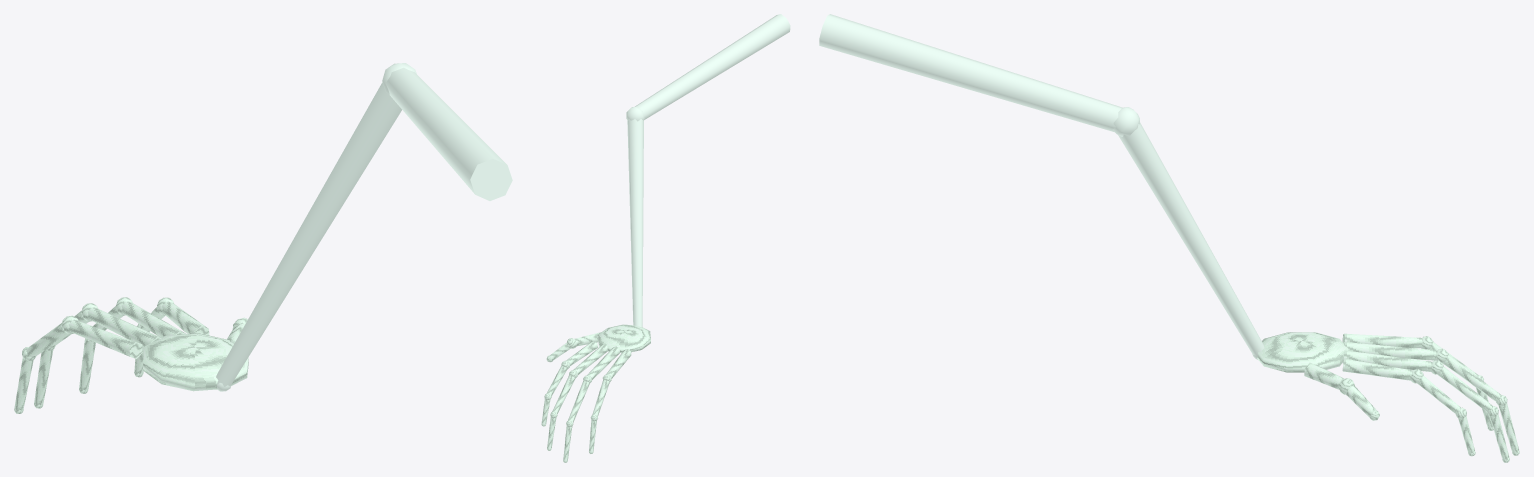
File: mao_longa.glb
3 renders of one model, left to right at view 1: azimuth 30°, elevation 25°; view 2: azimuth 150°, elevation 25°; view 3: azimuth 270°, elevation 25°, orthographic. The views are drawn at different scales.
Parts seen in each view (by area): view 1: _MeshInstance3D_7446_35, _MeshInstance3D_7444_37, _MeshInstance3D_7449_33, _MeshInstance3D_7451_32, _MeshInstance3D_7462_25, _MeshInstance3D_7473_18, _MeshInstance3D_7484_11, _MeshInstance3D_7468_21, _MeshInstance3D_7454_30, _MeshInstance3D_7457_28, _MeshInstance3D_7479_14; view 2: _MeshInstance3D_7444_37, _MeshInstance3D_7446_35, _MeshInstance3D_7449_33, _MeshInstance3D_7462_25, _MeshInstance3D_7473_18, _MeshInstance3D_7465_23, _MeshInstance3D_7476_16, _MeshInstance3D_7451_32, _MeshInstance3D_7484_11; view 3: _MeshInstance3D_7444_37, _MeshInstance3D_7446_35, _MeshInstance3D_7449_33, _MeshInstance3D_7462_25, _MeshInstance3D_7473_18, _MeshInstance3D_7484_11, _MeshInstance3D_7451_32.
Part boxes in pixels (x1,y1,x2,y2): _MeshInstance3D_7446_35: (216, 83, 401, 386); _MeshInstance3D_7444_37: (385, 67, 512, 200); _MeshInstance3D_7449_33: (143, 333, 248, 391); _MeshInstance3D_7451_32: (68, 319, 142, 358); _MeshInstance3D_7462_25: (87, 307, 161, 347); _MeshInstance3D_7473_18: (121, 301, 185, 337); _MeshInstance3D_7484_11: (162, 301, 209, 335); _MeshInstance3D_7468_21: (34, 350, 53, 405); _MeshInstance3D_7454_30: (26, 323, 68, 357); _MeshInstance3D_7457_28: (14, 358, 33, 411); _MeshInstance3D_7479_14: (79, 338, 95, 391); _MeshInstance3D_7444_37: (635, 14, 790, 119); _MeshInstance3D_7446_35: (627, 119, 643, 326); _MeshInstance3D_7449_33: (598, 324, 650, 352); _MeshInstance3D_7462_25: (587, 346, 620, 379); _MeshInstance3D_7473_18: (573, 343, 607, 374); _MeshInstance3D_7465_23: (568, 380, 589, 422); _MeshInstance3D_7476_16: (552, 375, 575, 413); _MeshInstance3D_7451_32: (606, 349, 631, 378); _MeshInstance3D_7484_11: (566, 341, 597, 365); _MeshInstance3D_7444_37: (819, 14, 1122, 131); _MeshInstance3D_7446_35: (1118, 122, 1264, 356); _MeshInstance3D_7449_33: (1257, 332, 1348, 372); _MeshInstance3D_7462_25: (1343, 342, 1437, 360); _MeshInstance3D_7473_18: (1343, 350, 1432, 371); _MeshInstance3D_7484_11: (1342, 358, 1412, 380); _MeshInstance3D_7451_32: (1342, 333, 1422, 348).
Size of the model in its own units: 0.4605 by 1.49 by 2.13.
7 materials, 1 textured.
